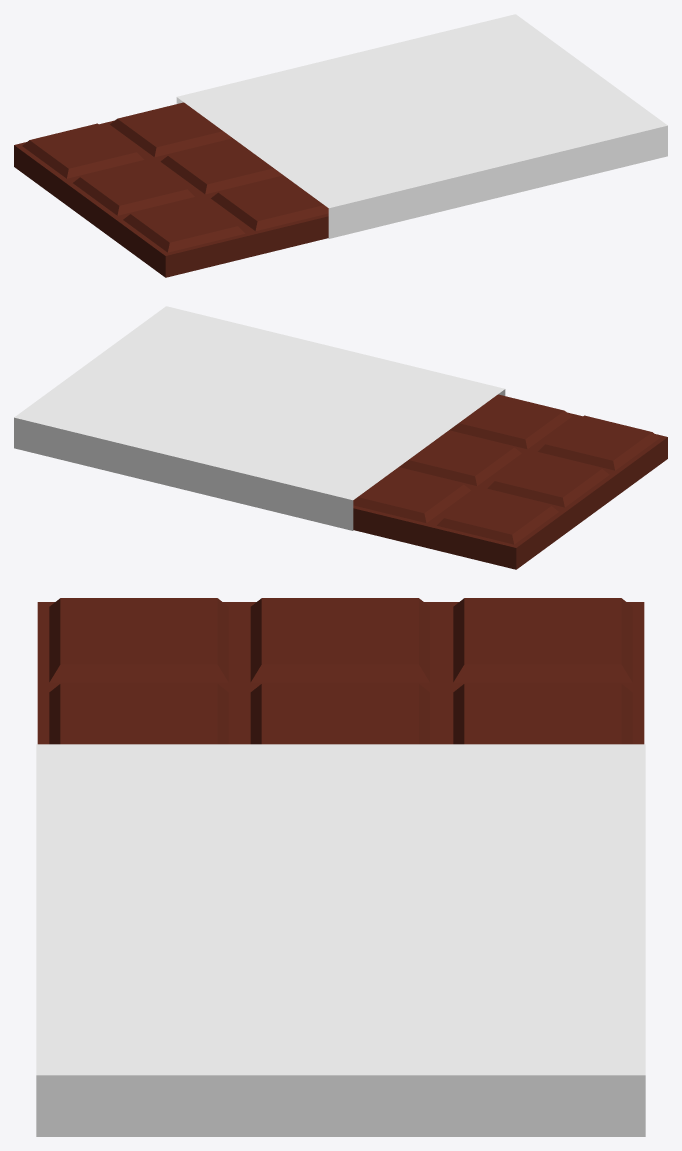
Rendered from Chocolate bar.glb.
3 renders of one model, top to bottom at view 1: azimuth 30°, elevation 25°; view 2: azimuth 150°, elevation 25°; view 3: azimuth 270°, elevation 25°, orthographic. The views are drawn at different scales.
Parts seen in each view (by area): view 1: Wrapper.001, Chocolate bar; view 2: Wrapper.001, Chocolate bar; view 3: Wrapper.001, Chocolate bar.
Boxes of the visible parts, x1,y1,x2,y2 form: Wrapper.001: [176, 14, 667, 238]; Chocolate bar: [14, 102, 328, 277]; Wrapper.001: [14, 306, 505, 530]; Chocolate bar: [353, 394, 667, 569]; Wrapper.001: [36, 744, 645, 1136]; Chocolate bar: [37, 598, 644, 744].
Size of the model in its own units: 2.03 by 0.1188 by 1.07.
